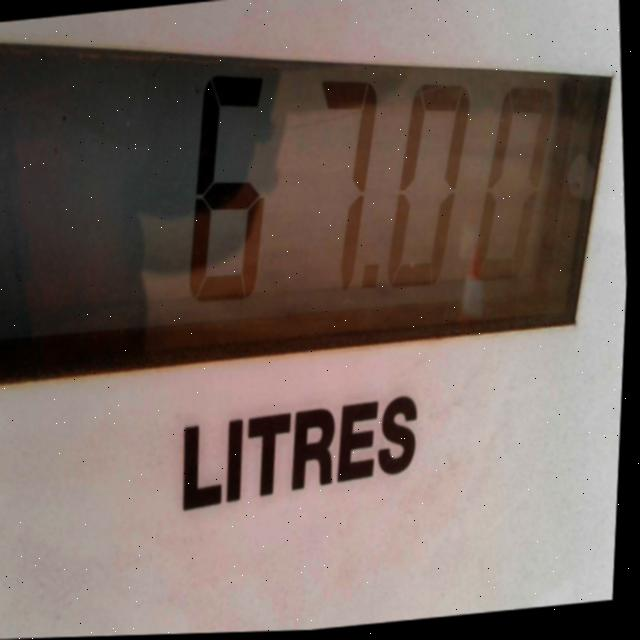.: (355, 247, 394, 313)
0: (372, 63, 486, 316), (459, 72, 576, 309)
6: (157, 54, 311, 329)
7: (289, 52, 403, 311)
